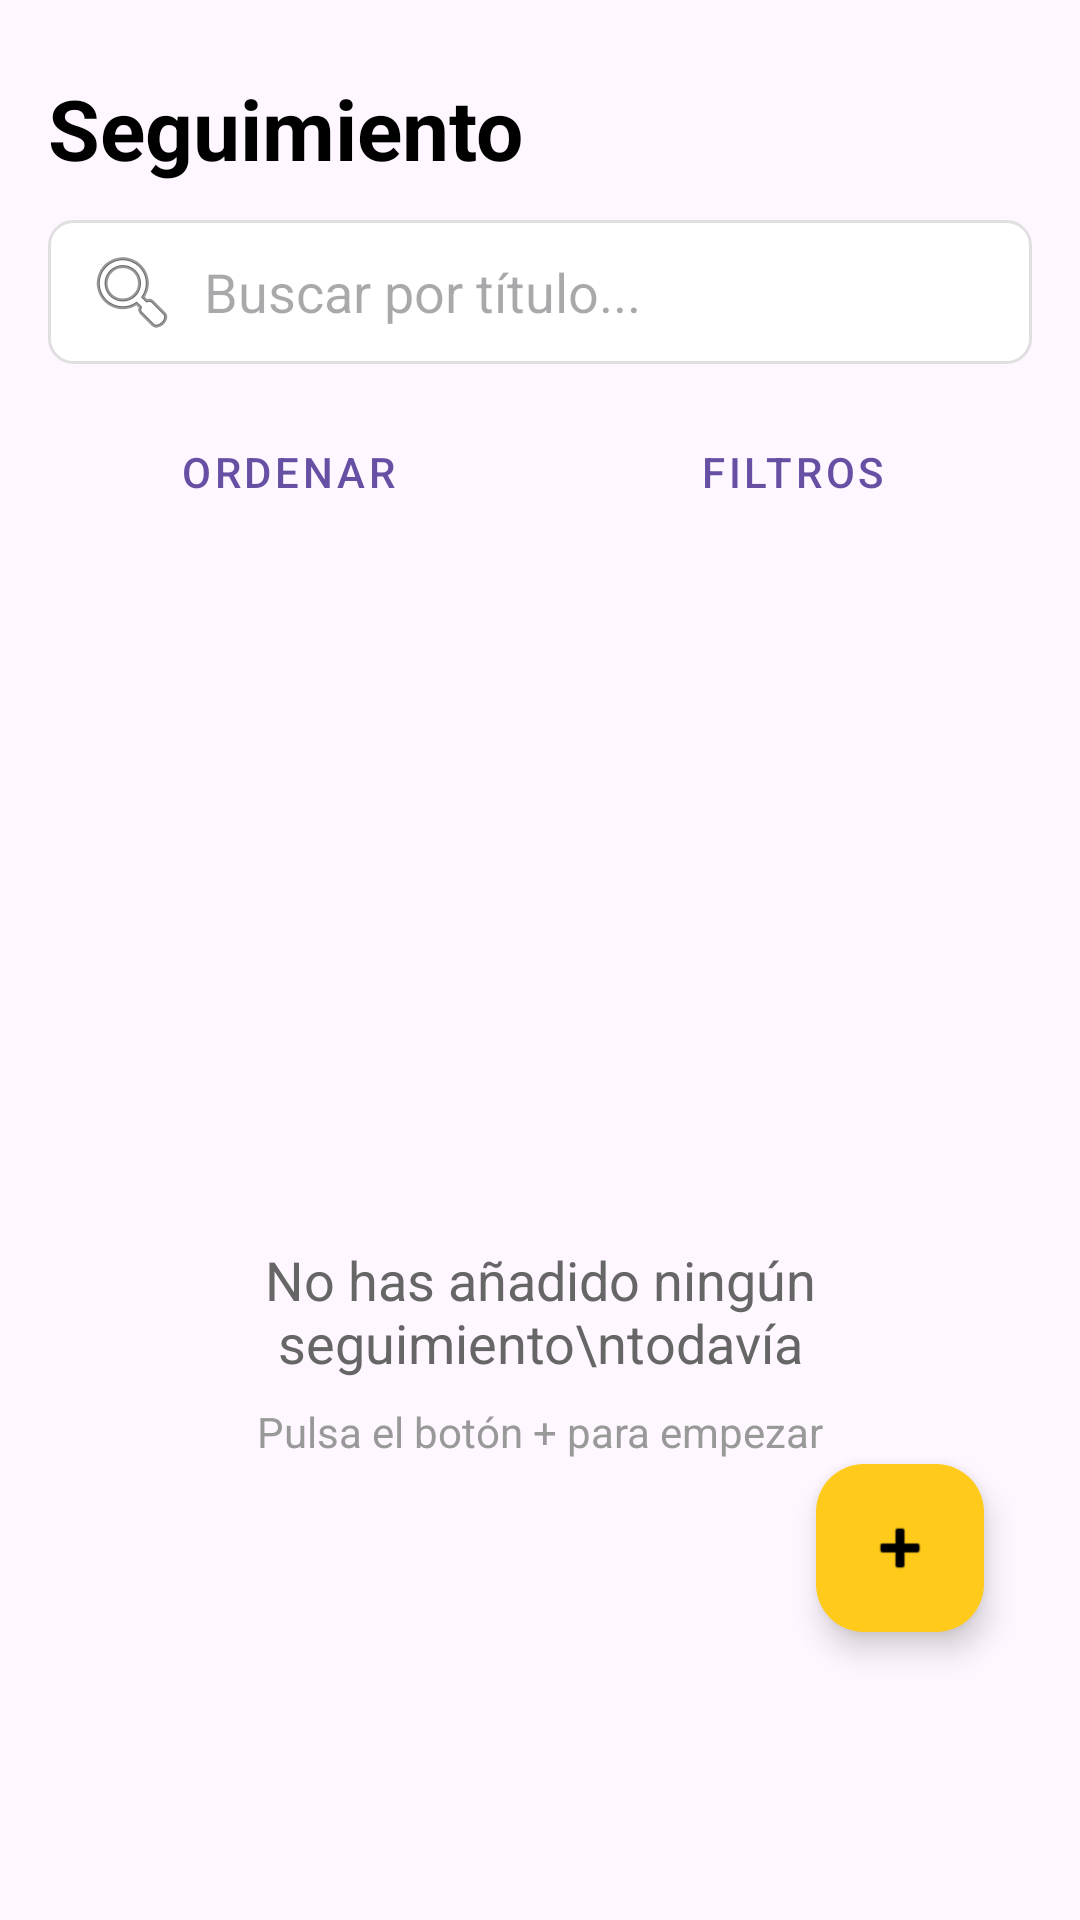

Point at icon controls on the screen. Image size 1080px×1920px, points as (x,y).
add: (900,1548)
